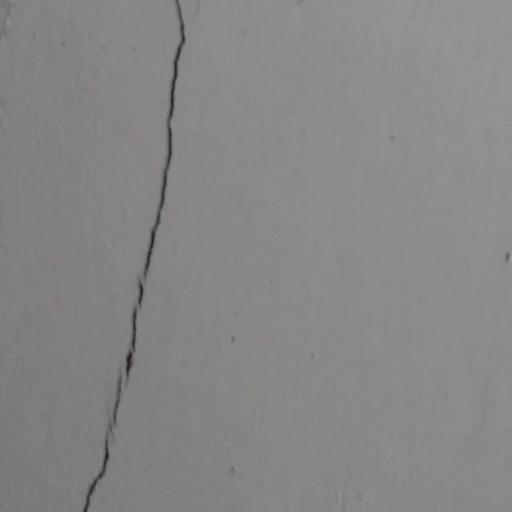major_crack: (78, 0, 194, 512)
